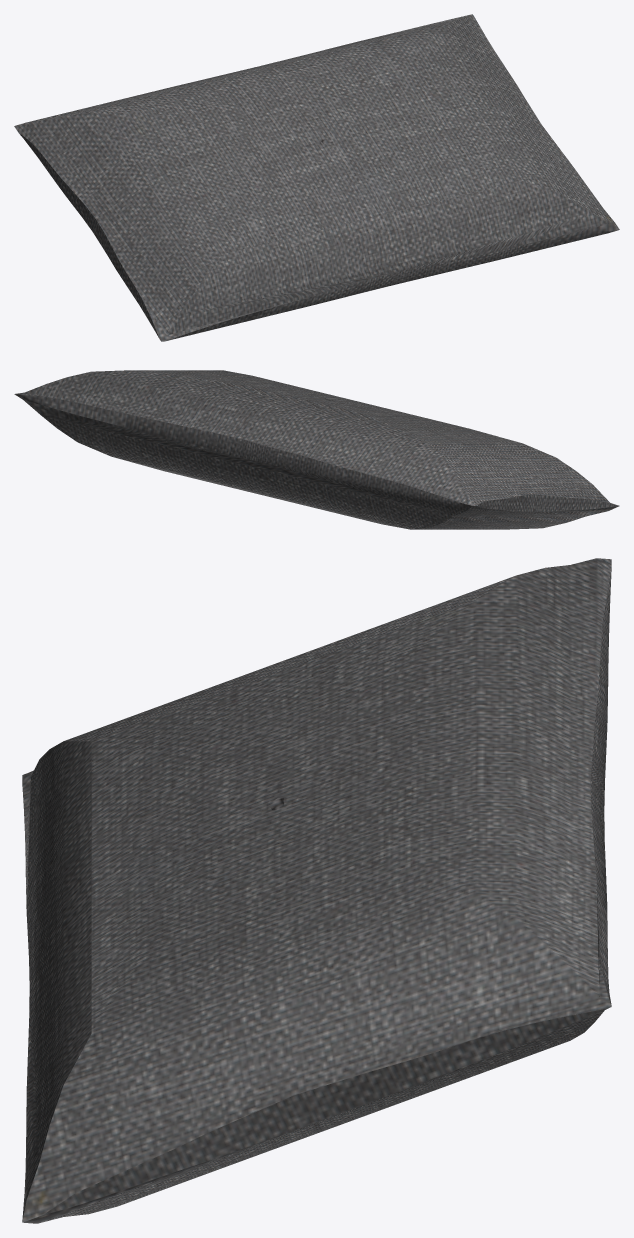
Rendered from pillow1.glb.
The picture shows the model from 3 angles, top to bottom: view 1: azimuth 30°, elevation 25°; view 2: azimuth 150°, elevation 25°; view 3: azimuth 270°, elevation 25°; orthographic projection. The views are drawn at different scales.
Visible parts, largest first — view 1: Pillow2; view 2: Pillow2; view 3: Pillow2.
Part boxes in pixels (box(x1,y1,x2,y2)): Pillow2: box(14, 14, 619, 341); Pillow2: box(14, 370, 619, 529); Pillow2: box(22, 558, 611, 1223).
Bounding box in the file's own units: 0.6481 × 0.1951 × 0.3606.
Materials: 1 (1 with a texture image).
